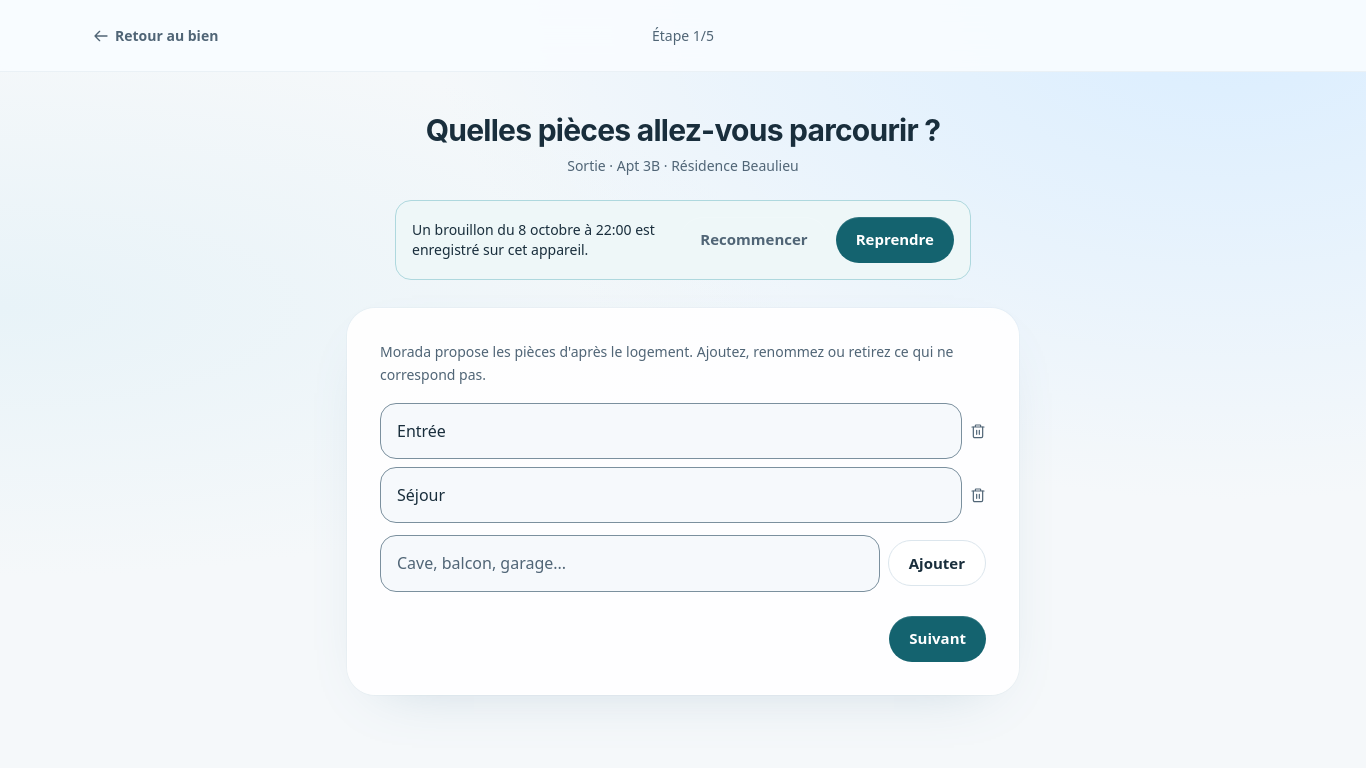
Scenario: the état des lieux on a phone › offers the draft the device holds and picks the walk up where it stopped
Expected: the message shows "brouillon", [412, 220, 655, 259]
Click the button "Reprendre" at (895, 240), box [836, 217, 954, 263]
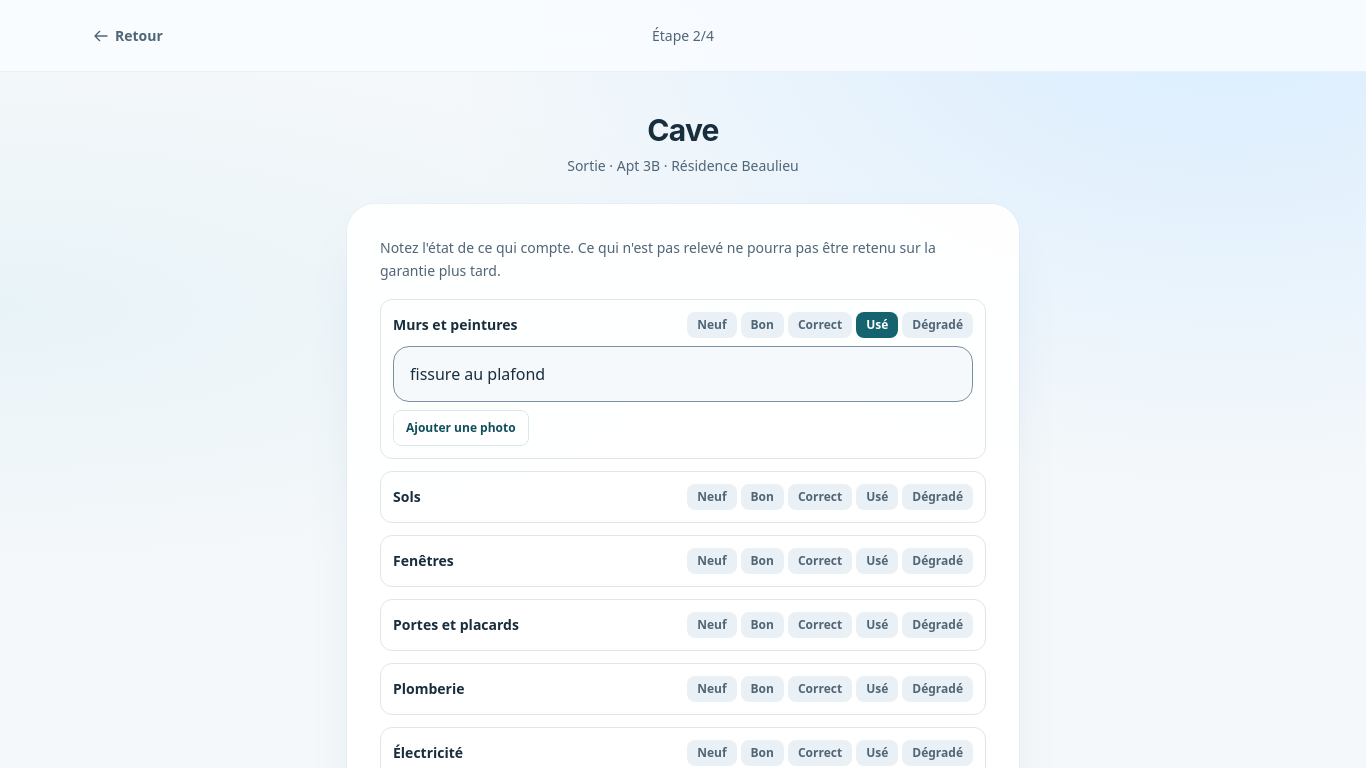
Expected: the heading "Cave" is shown, [647, 112, 719, 148]
